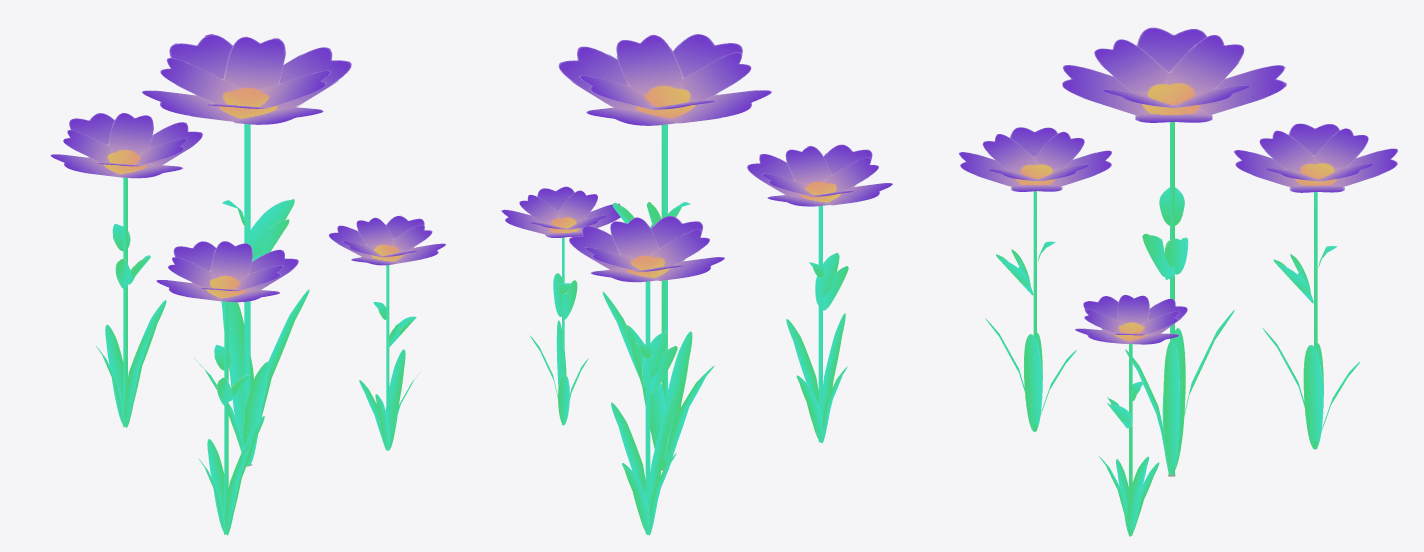
Rendered from Flower_n_05.fbx.
3 renders of one model, left to right at view 1: azimuth 30°, elevation 25°; view 2: azimuth 150°, elevation 25°; view 3: azimuth 270°, elevation 25°, orthographic. The views are drawn at different scales.
Visible parts, largest first — view 1: polySurface300; view 2: polySurface300; view 3: polySurface300.
Boxes of the visible parts, left/top/right/bottom form: polySurface300: left=50, top=34, right=446, bottom=535; polySurface300: left=501, top=34, right=892, bottom=535; polySurface300: left=958, top=27, right=1397, bottom=536.
Bounding box in the file's own units: 58.85 × 63.2 × 64.33.
Materials: 2 (1 with a texture image).
